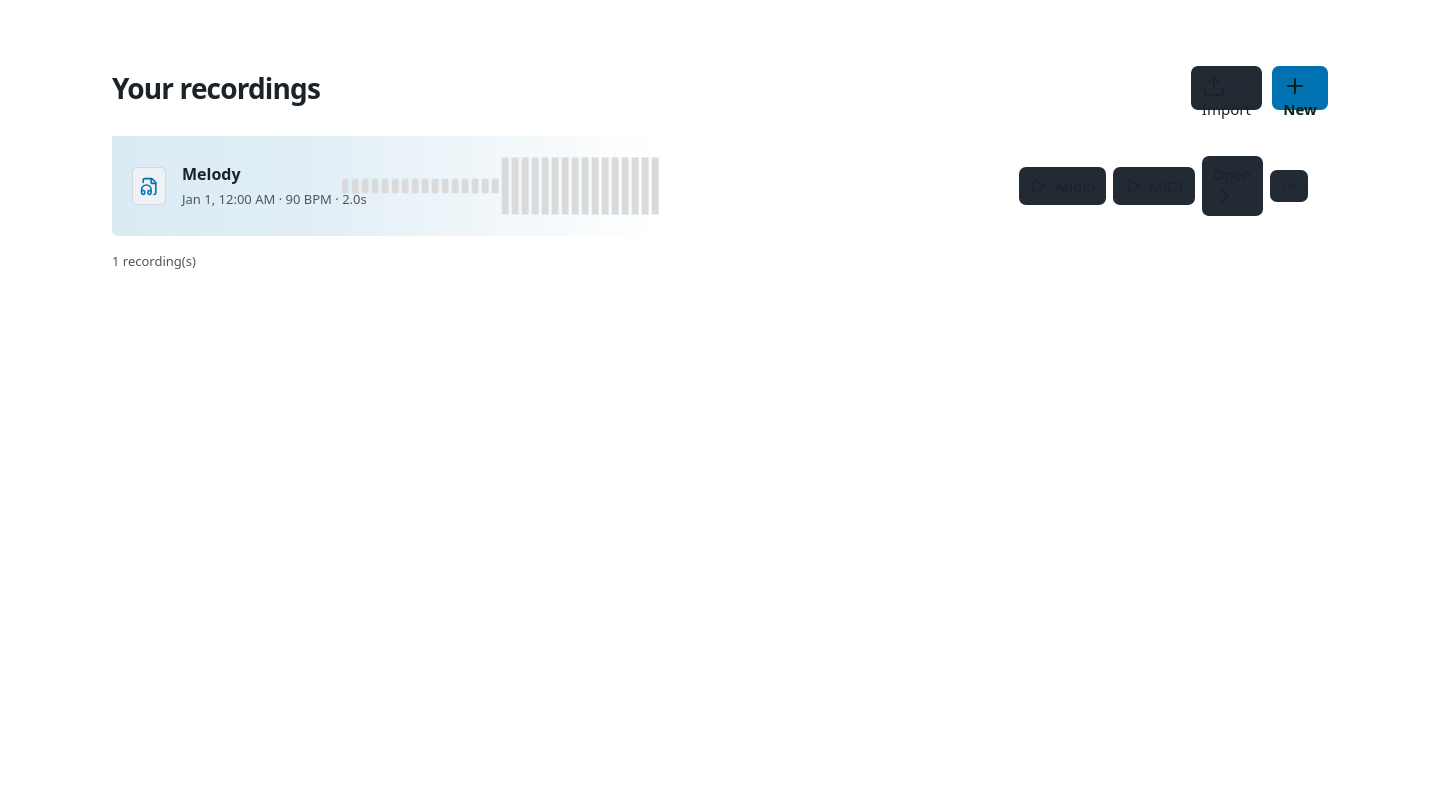
Test case: library › duplicates a recording and shows the new card
Check: the heading "Melody" is shown, box left=182, top=163, right=241, bottom=185
Check: the element with class "recording-waveform-cutout" is shown, box left=342, top=158, right=659, bottom=214
Click the button named "Actions for Melody" at {"x": 1289, "y": 186}, box left=1270, top=170, right=1308, bottom=202
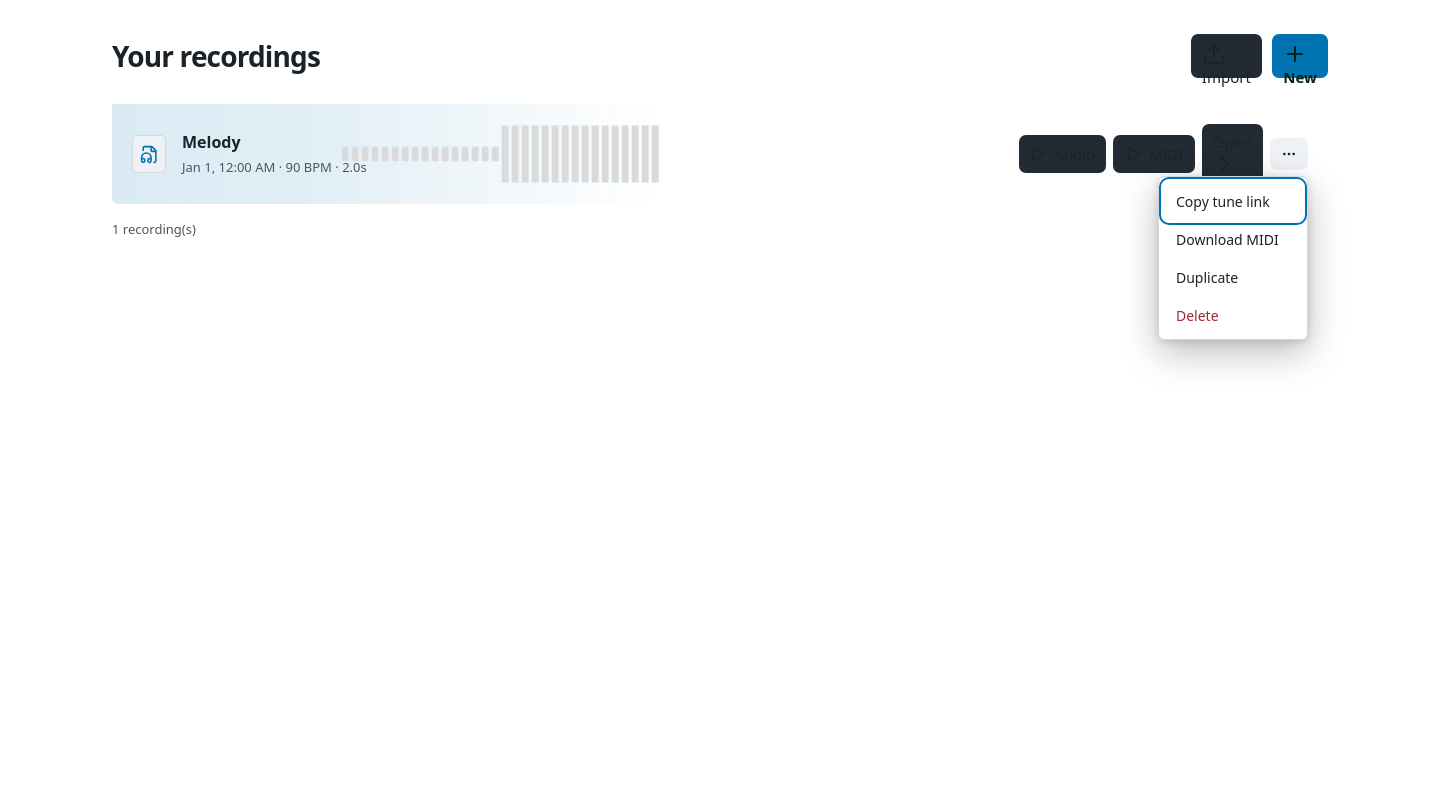
Click the element that starts with "Your recordings" at {"x": 720, "y": 144}, box left=0, top=0, right=1439, bottom=288
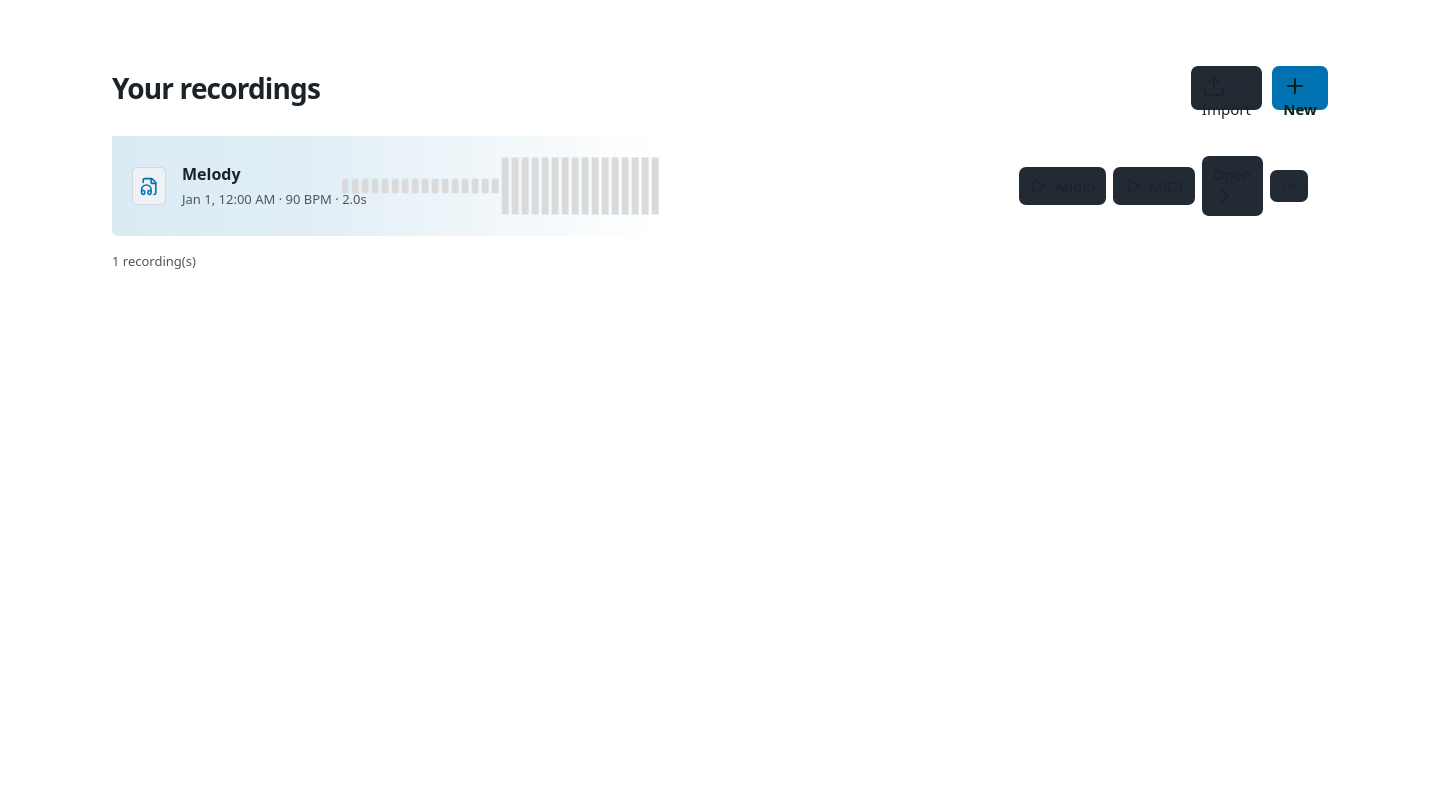
Check: the button "Duplicate" is gone
Click the button named "Actions for Melody" at {"x": 1289, "y": 186}, box left=1270, top=170, right=1308, bottom=202
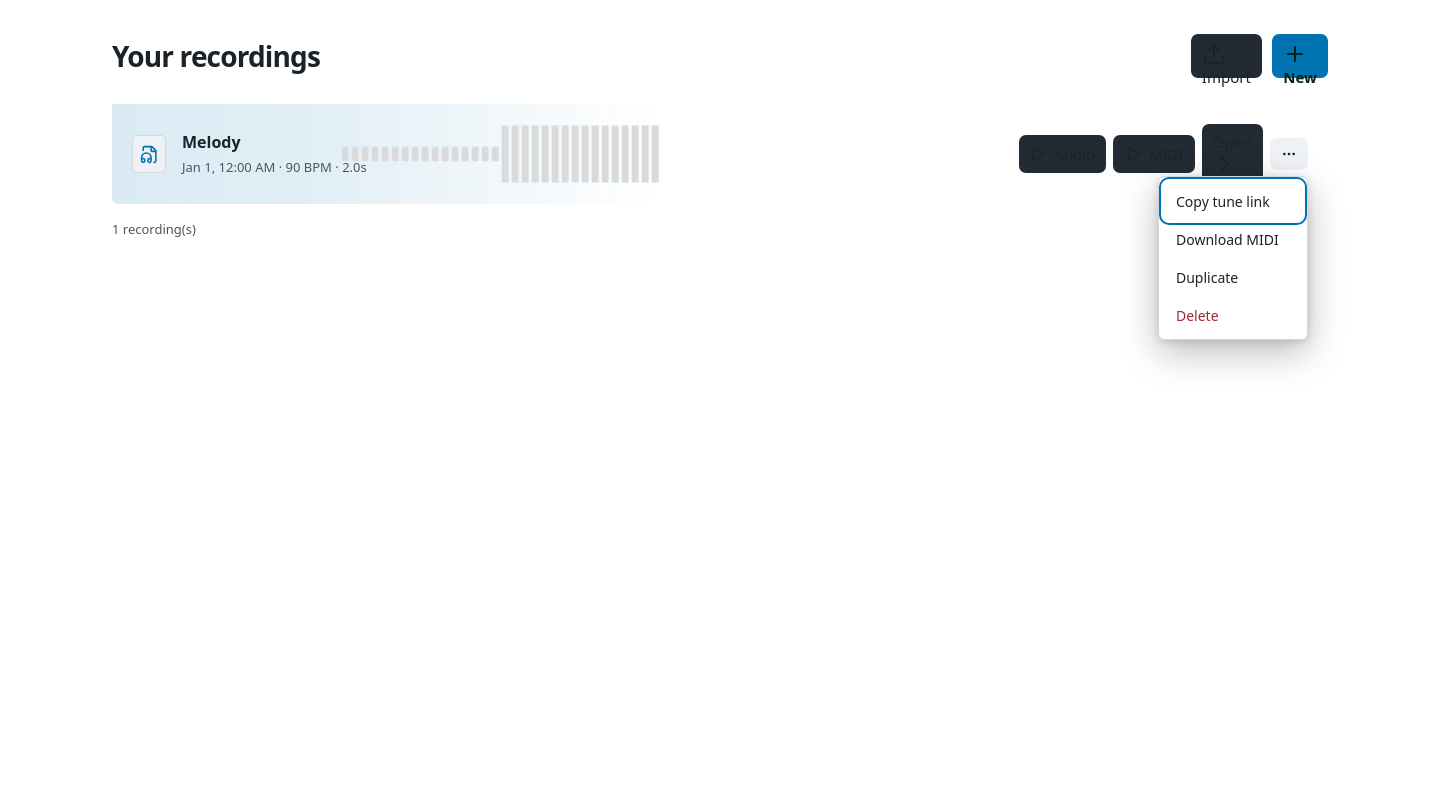
Click the button "Duplicate" at {"x": 1233, "y": 277}, box left=1164, top=258, right=1302, bottom=296
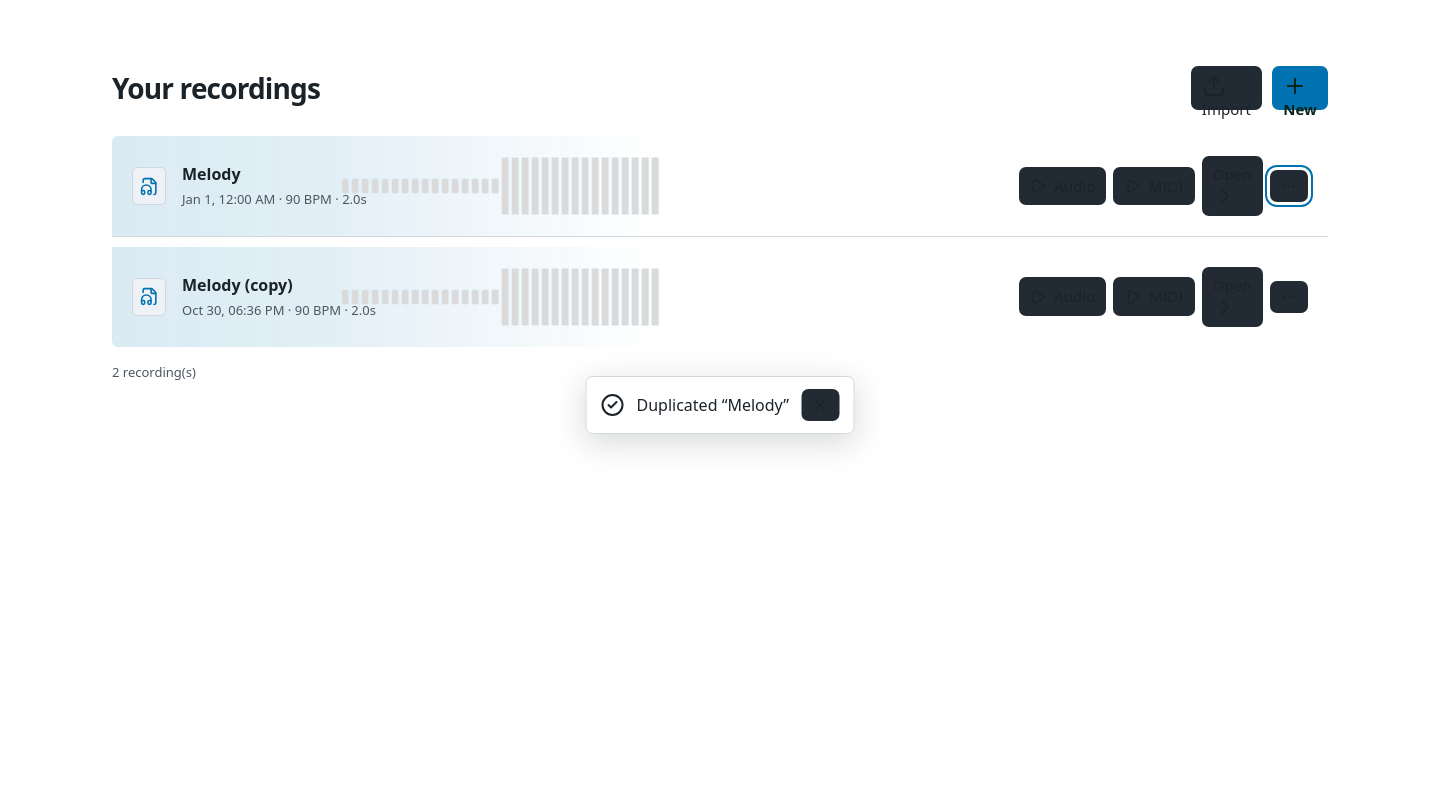
Check: the heading "Melody (copy)" is shown, box left=182, top=274, right=293, bottom=296
Check: the number of icons with class "recording-waveform" is 2, box left=112, top=136, right=662, bottom=236; left=112, top=247, right=662, bottom=347
